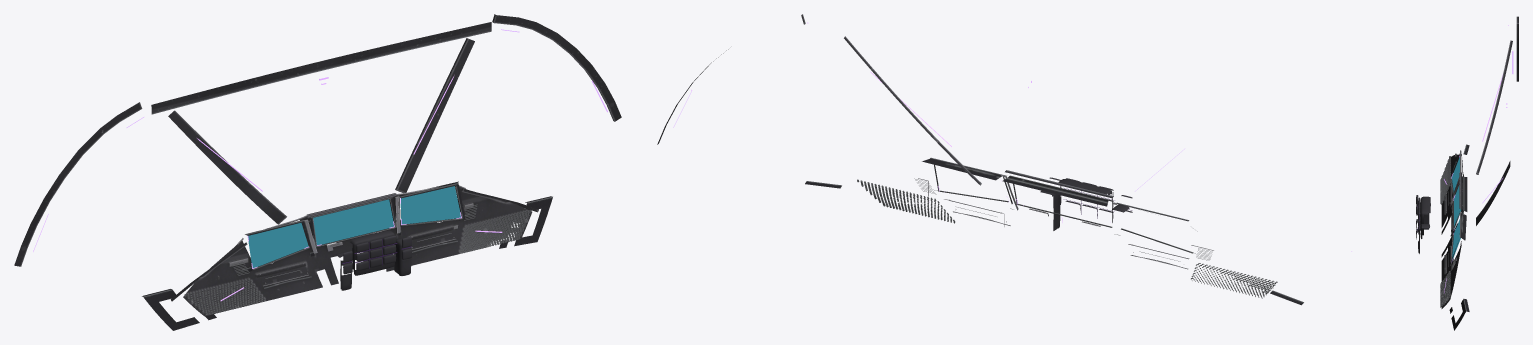
The model's file is sd_hayalet_cockpit_r001.glb.
3 views of the same model, side by side, from view 1: azimuth 30°, elevation 25°; view 2: azimuth 150°, elevation 25°; view 3: azimuth 270°, elevation 25° (orthographic). The views are drawn at different scales.
Visible parts, largest first — view 1: LOD0_body, SCR_RADAR, SCR_HULL, SCR_SYS, LOD0_emit; view 2: LOD0_body; view 3: LOD0_body, LOD0_emit, SCR_RADAR, SCR_HULL, SCR_SYS.
Part boxes in pixels (bbox=[...]): LOD0_body: bbox=[14, 14, 621, 330]; SCR_RADAR: bbox=[313, 199, 393, 245]; SCR_HULL: bbox=[400, 186, 460, 224]; SCR_SYS: bbox=[248, 223, 308, 267]; LOD0_emit: bbox=[33, 29, 607, 301]; LOD0_body: bbox=[657, 14, 1303, 305]; LOD0_body: bbox=[1416, 16, 1518, 330]; LOD0_emit: bbox=[1444, 25, 1513, 293]; SCR_RADAR: bbox=[1454, 185, 1461, 229]; SCR_HULL: bbox=[1452, 219, 1460, 259]; SCR_SYS: bbox=[1451, 157, 1459, 192].
Size of the model in its own units: 4.82 by 1.52 by 0.8473.
3 materials, 1 textured.
